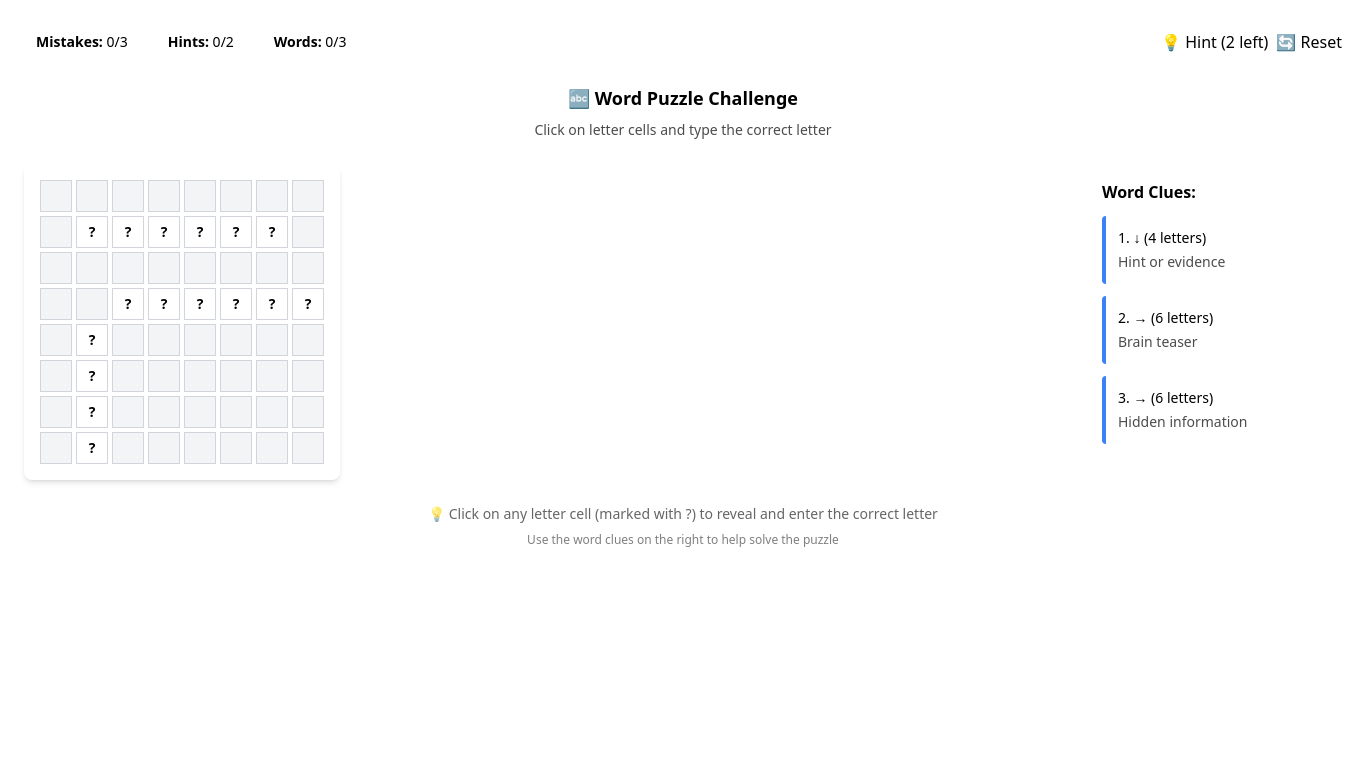
Scenario: WordPuzzleGame › Hint System › should allow using hints when available
The image size is (1366, 768).
Click the button "💡 Hint (2 left)": (1215, 42) [1161,30,1268,54]
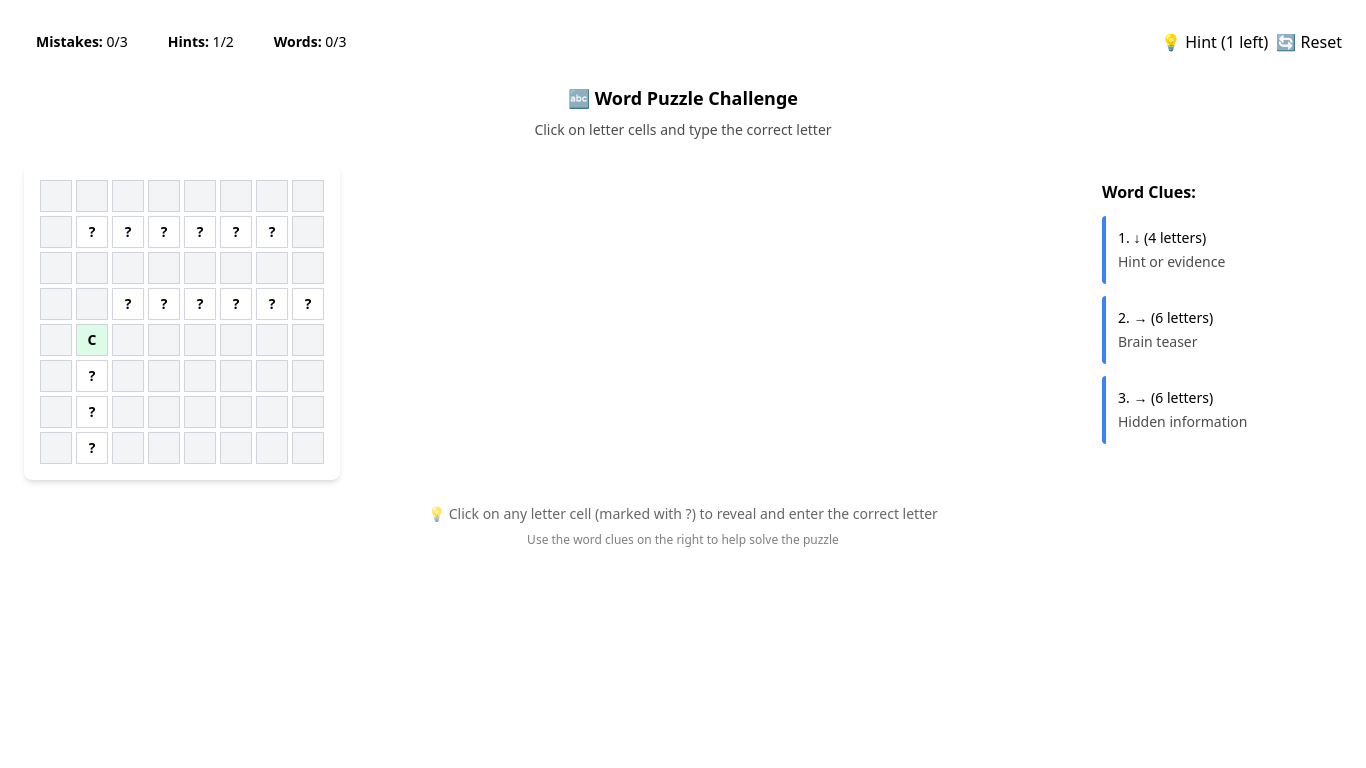
Now the button "💡 Hint (1 left)" is shown, box [1161,30,1268,54]
